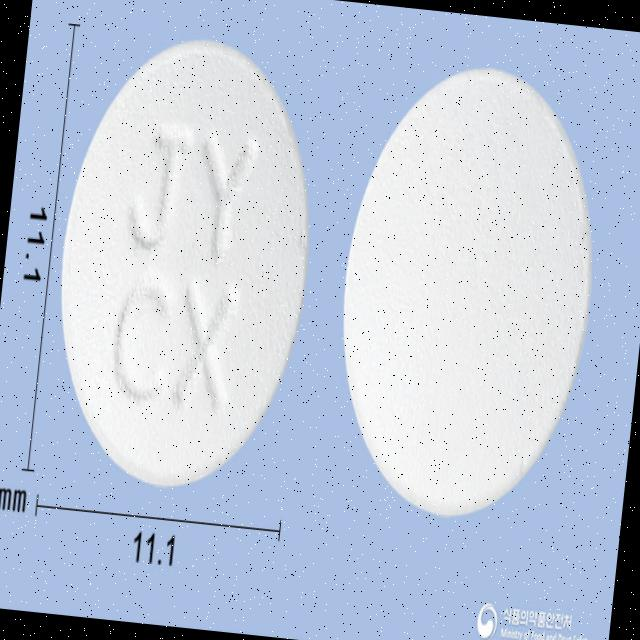Ciroxin: (318, 47, 620, 541), (34, 19, 333, 509)
